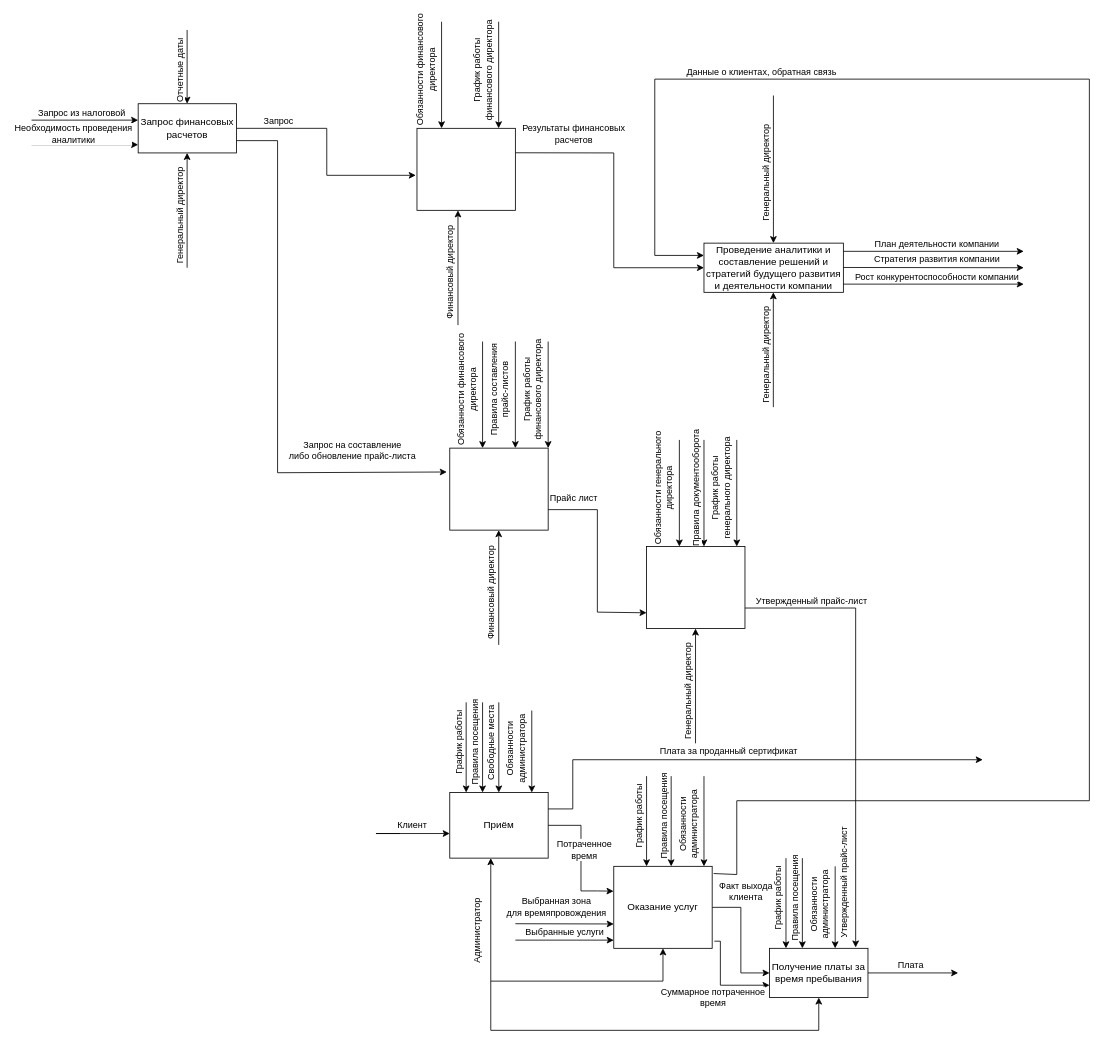
The diagram is 1110 pixels wide and 1051 high, and some of its shapes have lost their labels. The centre of each missing label's shape, as x and y in pixels:
"Проведение финансовых расчетов" belongs at (x=465, y=169).
"Утверждение прайс-листов" belongs at (x=695, y=587).
"Формирование прайс-листов" belongs at (x=498, y=488).
